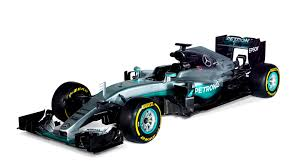FormulaOneCar: (13, 28, 285, 156)
